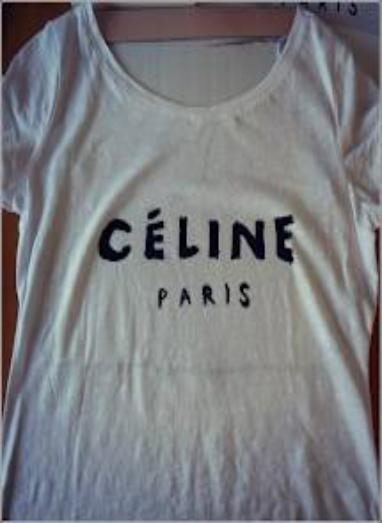CELINE: (90, 196, 303, 268)
